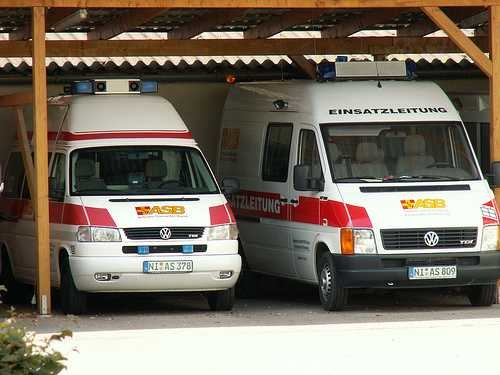Ambulance: (241, 67, 497, 321), (20, 69, 241, 311)
